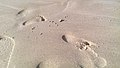human_footprint: (62, 34, 106, 67), (0, 35, 14, 67)
